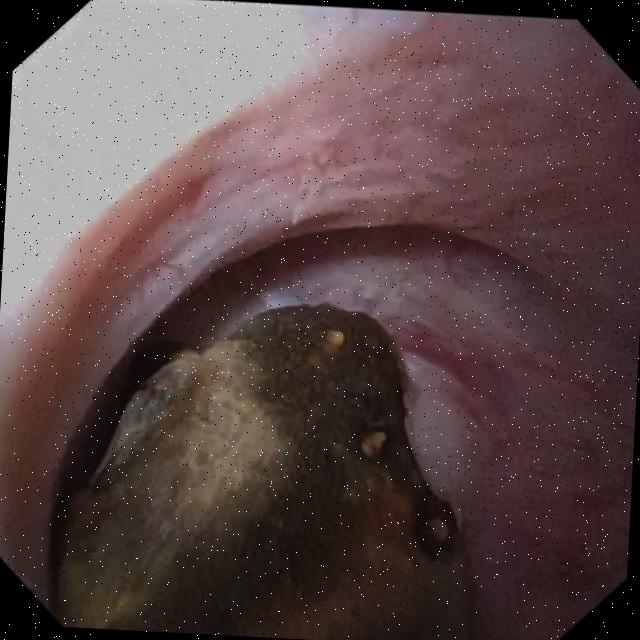stone-new: (60, 306, 466, 640)
